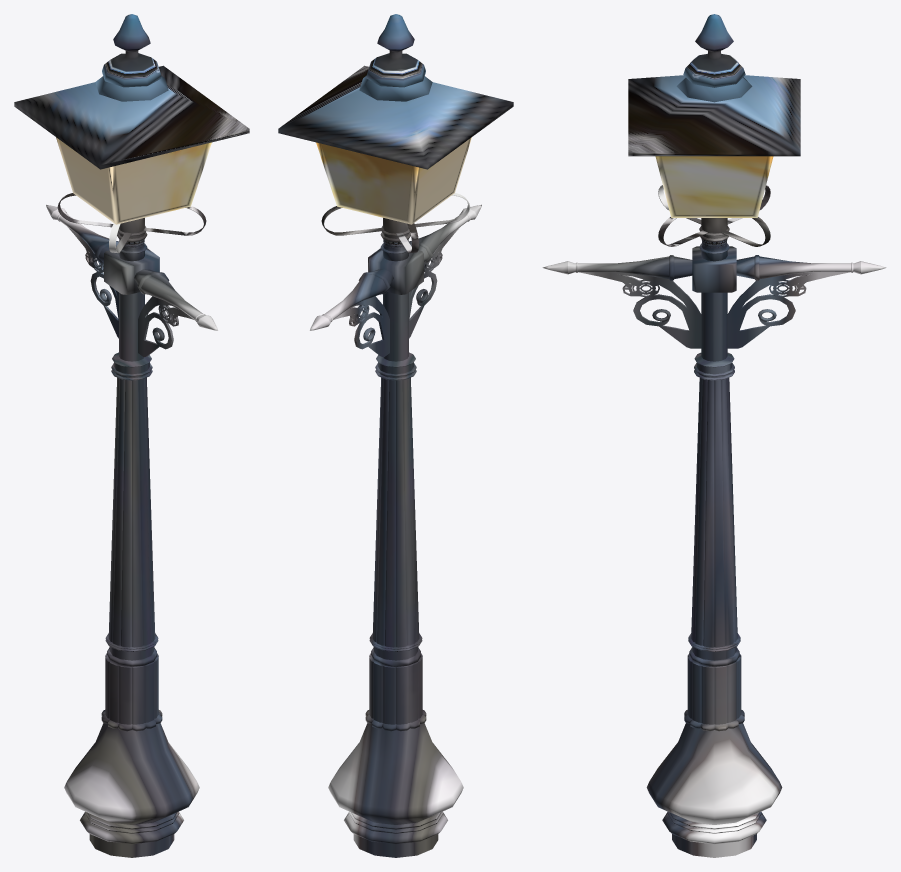
File: faro1.obj
The picture shows the model from 3 angles, left to right: view 1: azimuth 30°, elevation 25°; view 2: azimuth 150°, elevation 25°; view 3: azimuth 270°, elevation 25°; orthographic projection.
Parts seen in each view (by area): view 1: rv_lamp_post_3; view 2: rv_lamp_post_3; view 3: rv_lamp_post_3.
Part boxes in pixels (x1,y1,x2,y2): rv_lamp_post_3: (14, 14, 249, 857); rv_lamp_post_3: (278, 14, 513, 857); rv_lamp_post_3: (542, 14, 886, 857).
Bounding box in the file's own units: 1.37 × 7.23 × 2.74.
